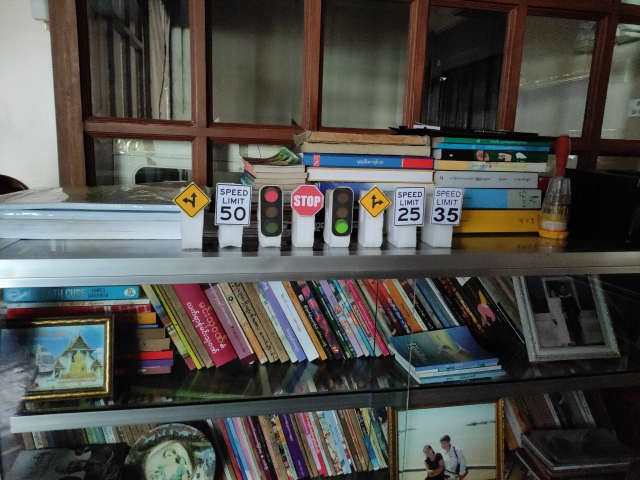Green Traffic Light: (331, 187, 354, 237)
Red Traffic Light: (259, 185, 284, 238)
Speed Limit 25: (395, 186, 424, 225)
Speed Limit 35: (430, 185, 463, 226)
Speed Limit 50: (216, 182, 252, 226)
Stop Sign: (290, 184, 324, 216)
Straight Or Left Sign: (172, 182, 211, 218)
Straight Or Right Sign: (360, 185, 392, 218)
